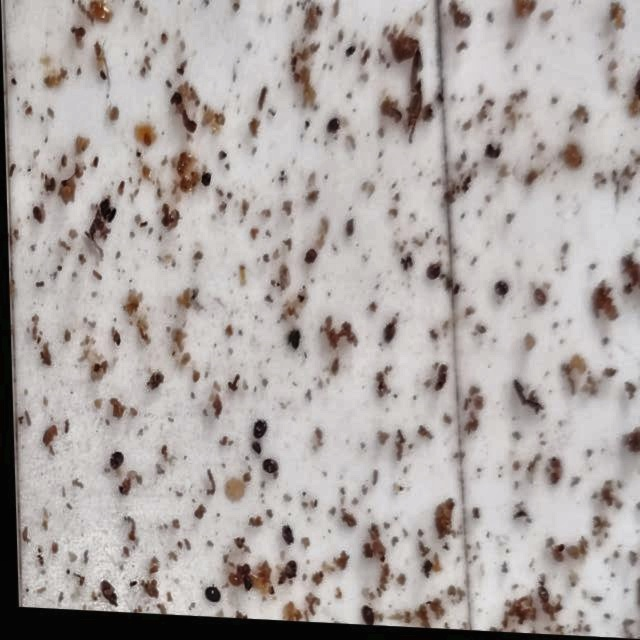varroa: (197, 585, 220, 613), (95, 584, 113, 617), (379, 321, 395, 352), (105, 453, 122, 479), (247, 423, 267, 444), (421, 263, 440, 284), (276, 528, 292, 552), (257, 461, 276, 481), (354, 607, 371, 629), (299, 249, 317, 269), (489, 281, 507, 301), (325, 118, 342, 139), (27, 211, 42, 234), (279, 566, 295, 586)
